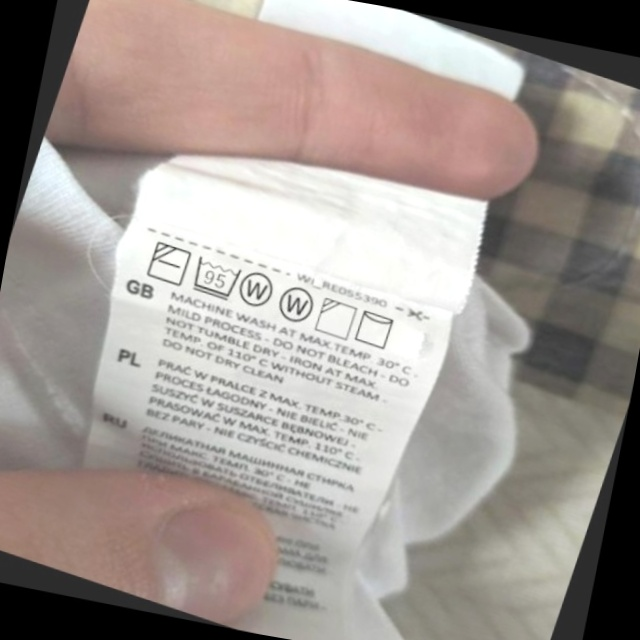95C: (186, 251, 246, 305)
dry_flat_in_shade: (142, 236, 195, 290)
line_dry: (350, 304, 401, 354)
shade_dry: (311, 293, 362, 344)
wet_clean: (272, 280, 321, 331), (234, 263, 282, 314)
